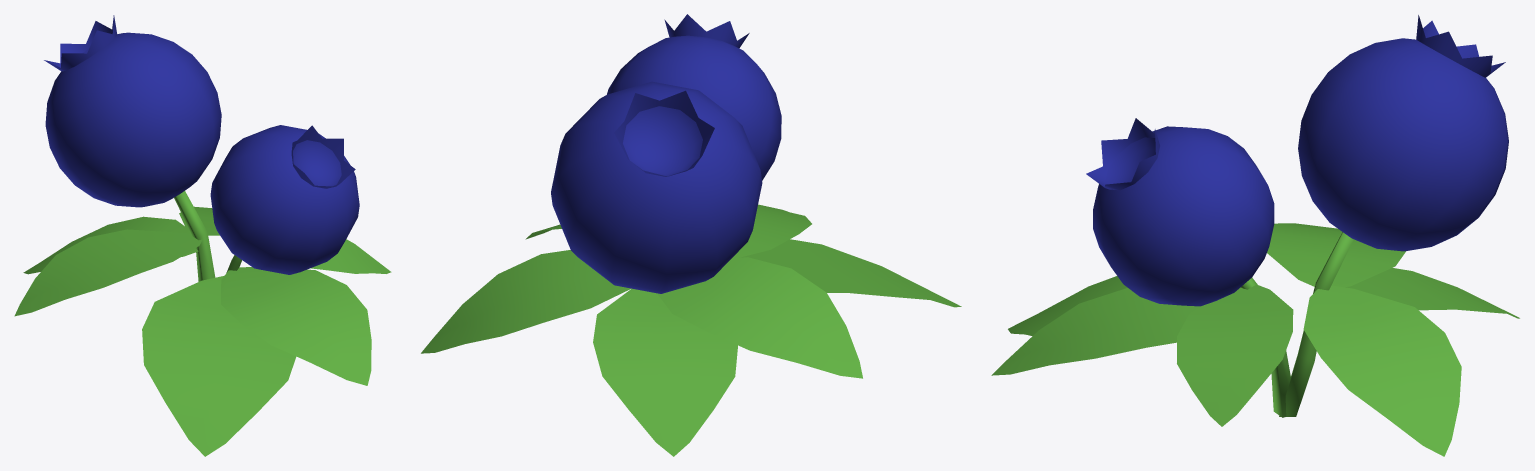
Rendered from blueberry2.fbx.
3 renders of one model, left to right at view 1: azimuth 30°, elevation 25°; view 2: azimuth 150°, elevation 25°; view 3: azimuth 270°, elevation 25°, orthographic. The views are drawn at different scales.
Visible parts, largest first — view 1: Blueberry2; view 2: Blueberry2; view 3: Blueberry2.
Boxes of the visible parts, x1,y1,x2,y2 form: Blueberry2: (14, 15, 391, 456); Blueberry2: (421, 14, 961, 456); Blueberry2: (991, 15, 1519, 456).
Size of the model in its own units: 53.12 by 45.78 by 60.84.
